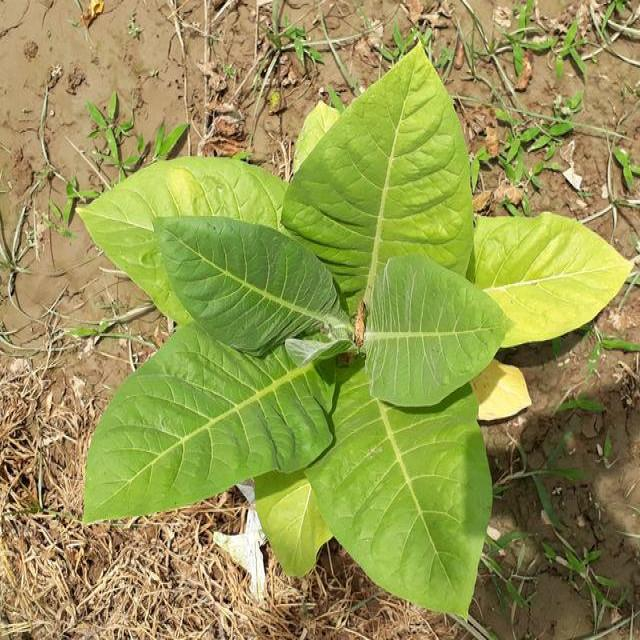crop: (79, 72, 607, 610)
